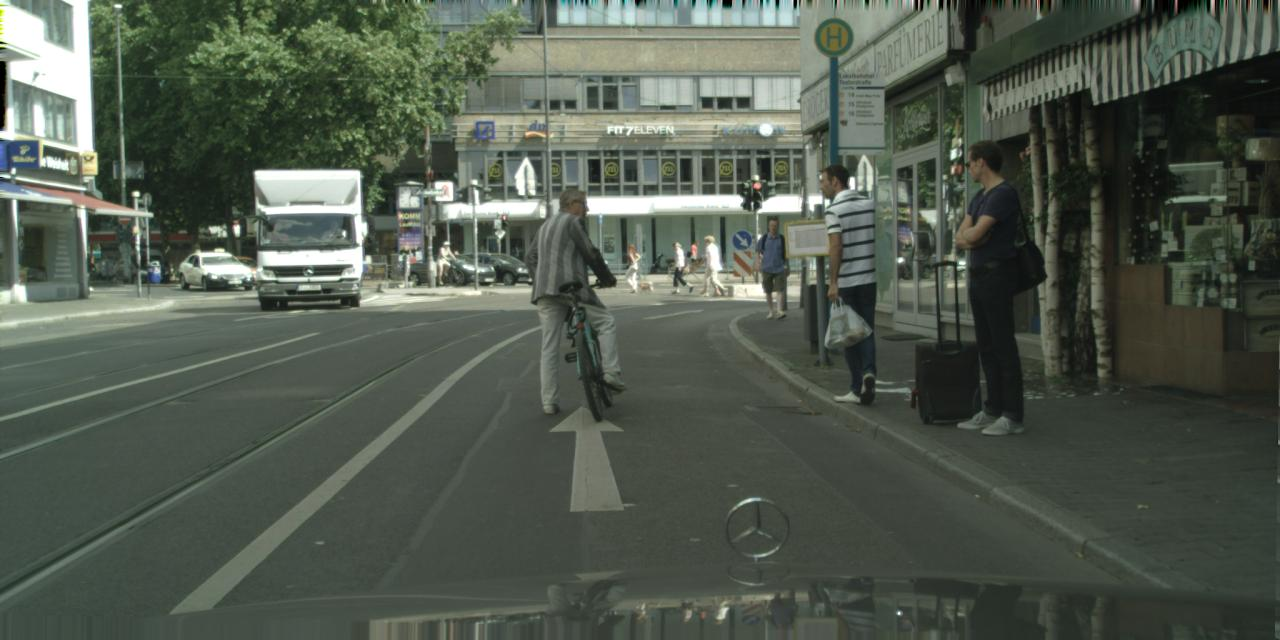ped: (930, 140, 1050, 434), (799, 164, 897, 404), (532, 187, 621, 407), (753, 220, 793, 320), (699, 235, 724, 295), (698, 237, 721, 294), (669, 242, 690, 293), (621, 242, 641, 292), (436, 240, 452, 278), (448, 250, 461, 281), (690, 240, 702, 269)
